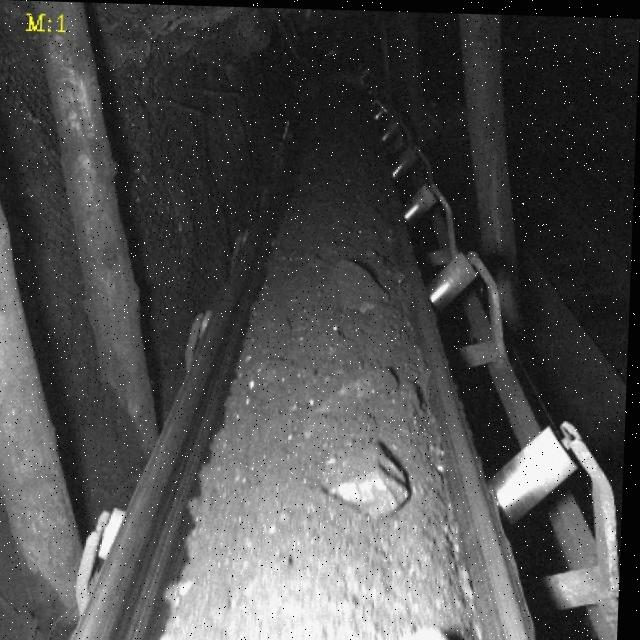large_sized_coal: (326, 440, 414, 514), (305, 365, 394, 431), (332, 255, 390, 318), (407, 623, 468, 640)
